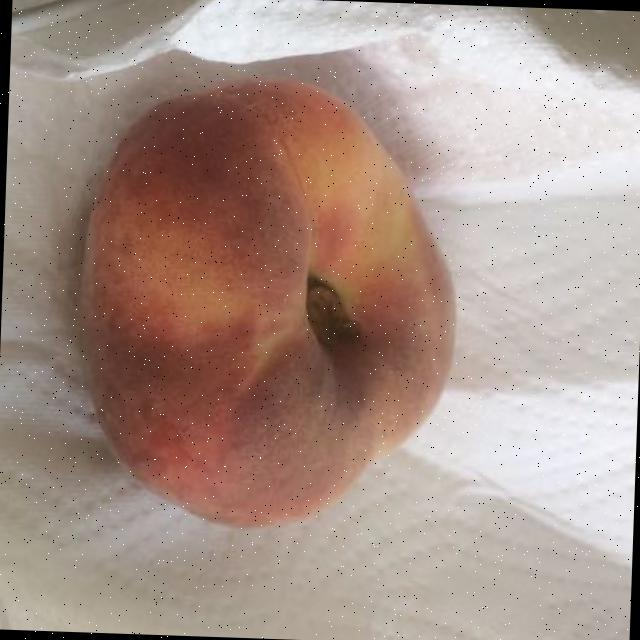peach: (88, 80, 453, 521)
